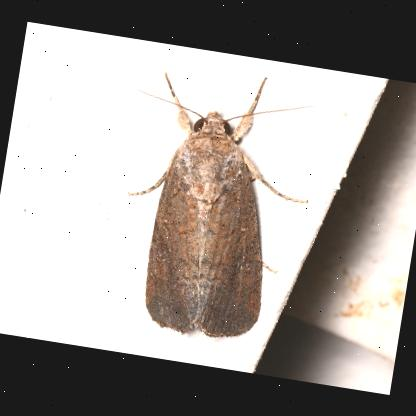Fall Armyworm Moth: (93, 53, 327, 352)
